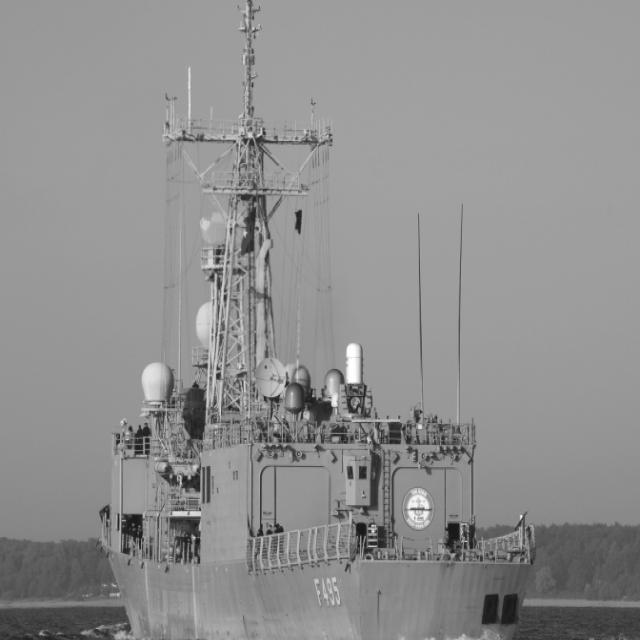Fragata: (97, 1, 542, 640)
